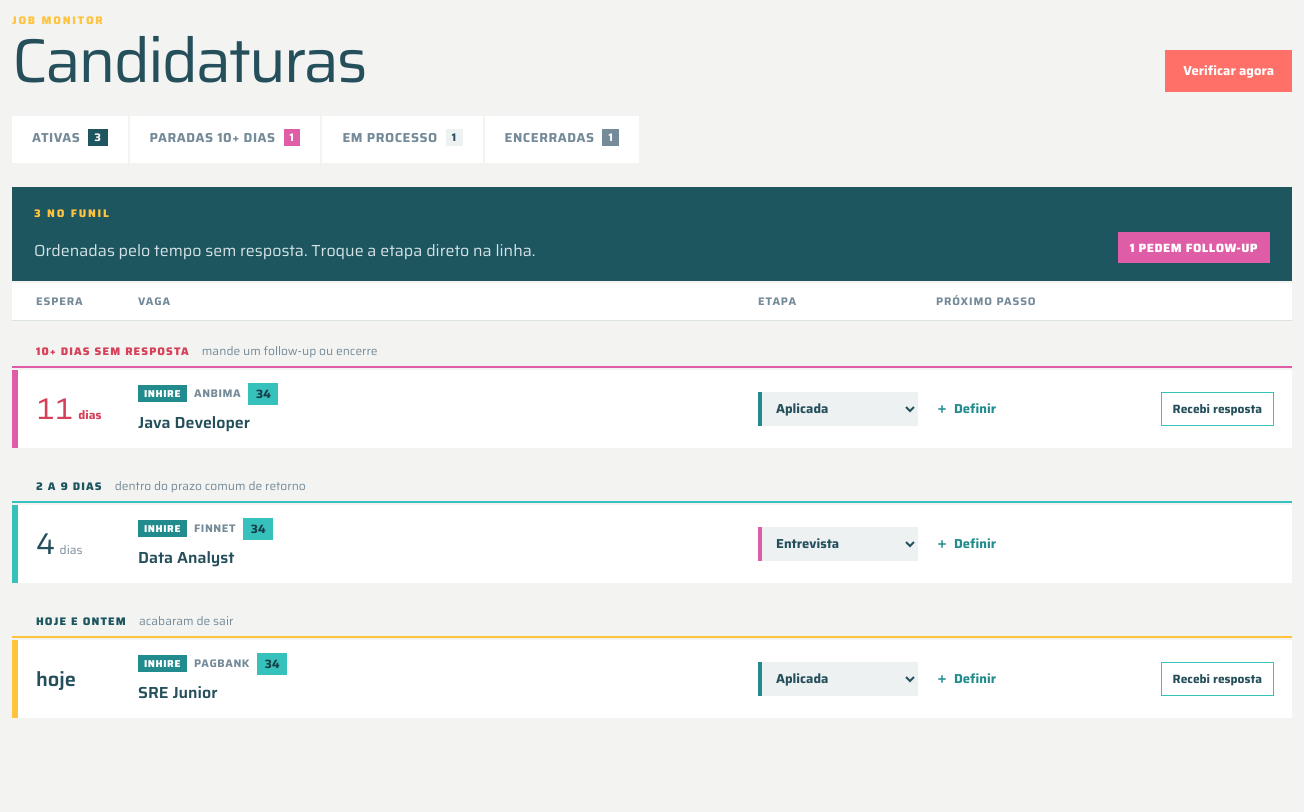
Test: applications list › Got an answer moves to screening and logs the answer
Click the button "Recebi resposta" in the row of "Anbima": click(1217, 409) [1161,392,1274,426]
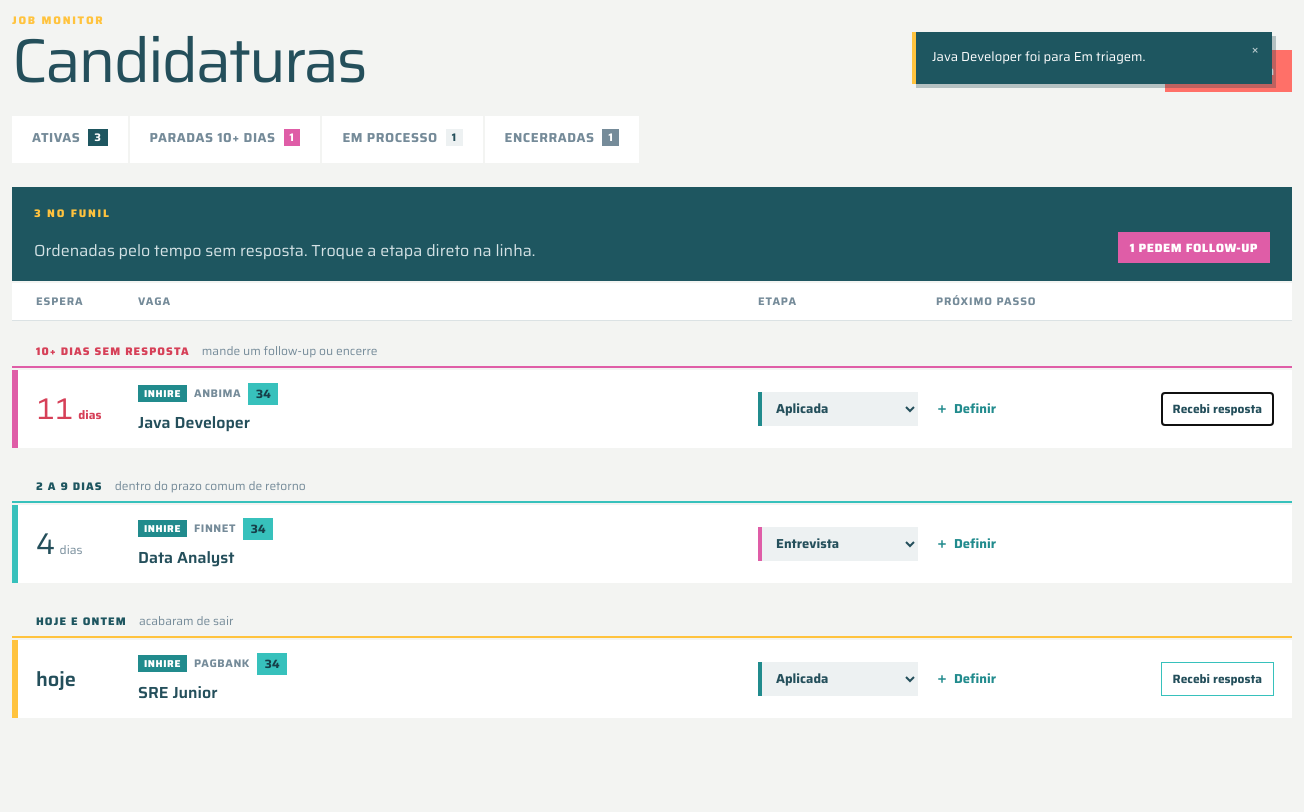
Now the text "Java Developer foi para Em triagem." is shown, box [932,46,1146,67]
